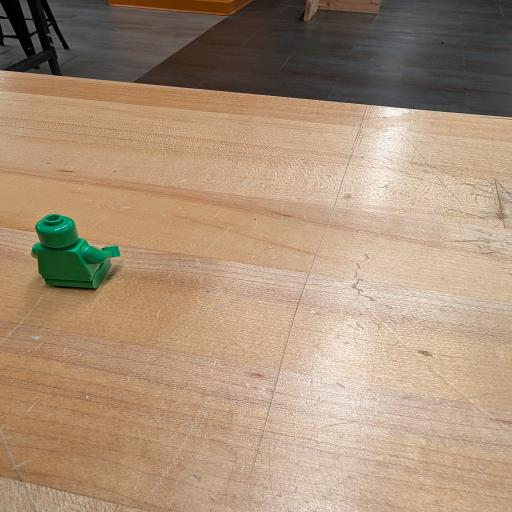Minifig: (31, 215, 119, 289)
